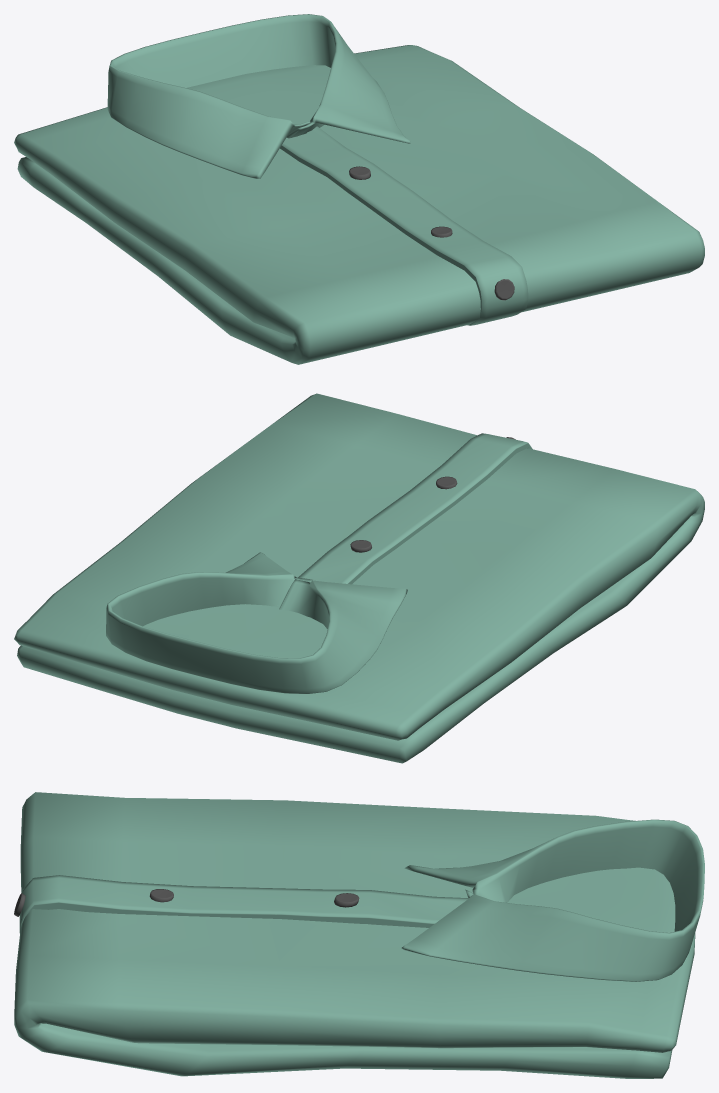
Rendered from Folded_Shirt27.fbx.
3 renders of one model, top to bottom at view 1: azimuth 30°, elevation 25°; view 2: azimuth 150°, elevation 25°; view 3: azimuth 270°, elevation 25°, orthographic. The views are drawn at different scales.
Visible parts, largest first — view 1: Folded_Shirt27; view 2: Folded_Shirt27; view 3: Folded_Shirt27.
Boxes of the visible parts, bbox=[...] form: Folded_Shirt27: bbox=[14, 14, 704, 364]; Folded_Shirt27: bbox=[14, 393, 704, 763]; Folded_Shirt27: bbox=[14, 792, 704, 1078].
Bounding box in the file's own units: 24.94 × 5.51 × 33.25.
